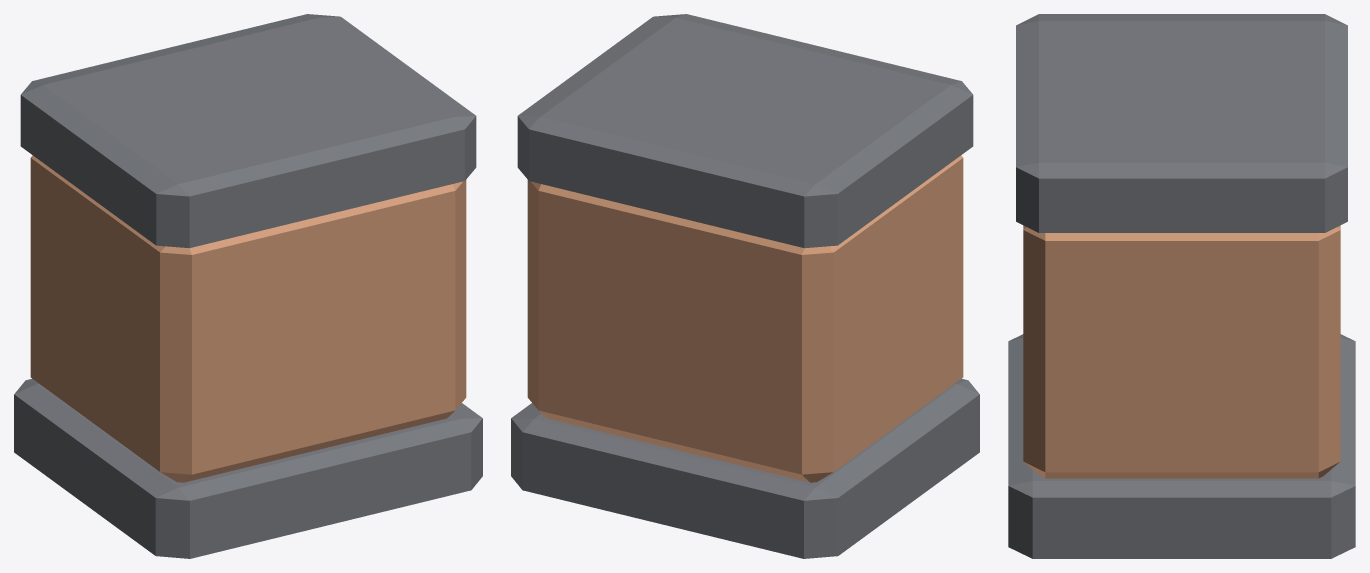
The model's file is b11_cedar_compost_bin.glb.
The picture shows the model from 3 angles, left to right: view 1: azimuth 30°, elevation 25°; view 2: azimuth 150°, elevation 25°; view 3: azimuth 270°, elevation 25°; orthographic projection. The views are drawn at different scales.
Parts seen in each view (by area): view 1: b11_cedar_compost_bin; view 2: b11_cedar_compost_bin; view 3: b11_cedar_compost_bin.
Boxes of the visible parts, x1,y1,x2,y2 form: b11_cedar_compost_bin: (14,14,482,558); b11_cedar_compost_bin: (511,14,979,558); b11_cedar_compost_bin: (1008,14,1355,558).
Size of the model in its own units: 1.13 by 1.22 by 0.985.
